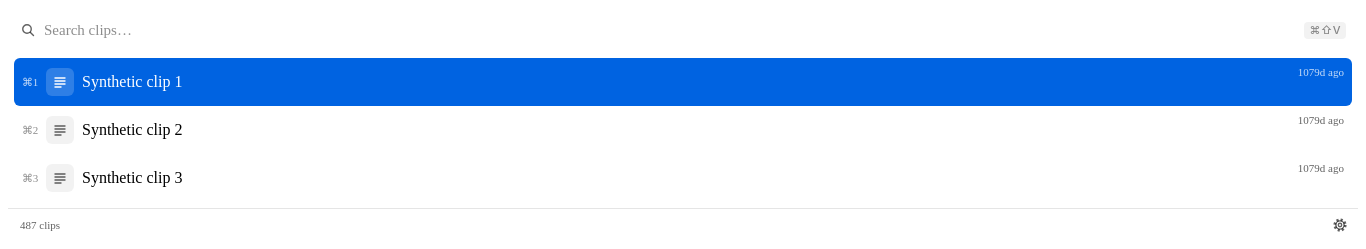
ClipBrowser search › counts results instead of clips while a search is active
The width and height of the screenshot is (1366, 249).
Expected: the text with id "clip-count" reads "487 clips", [20,219,60,231]
Step 1. Type "clip" into the dropdown with id "search-input" → (670, 30), box [44,16,1296,44]
Wait 50 ms
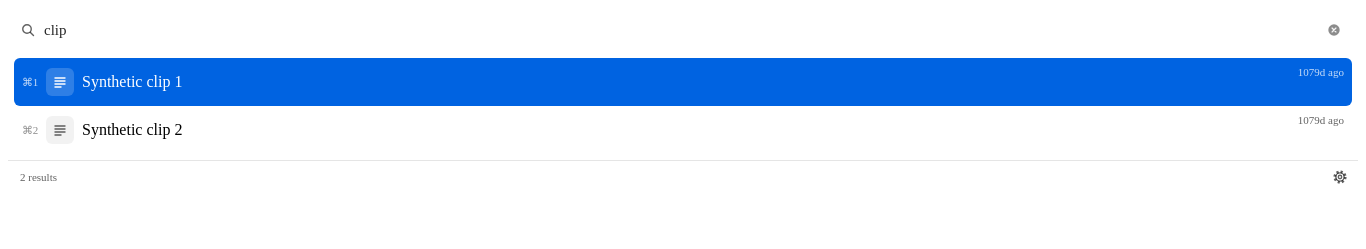
Now the text with id "clip-count" reads "2 results", box [20,171,57,183]
